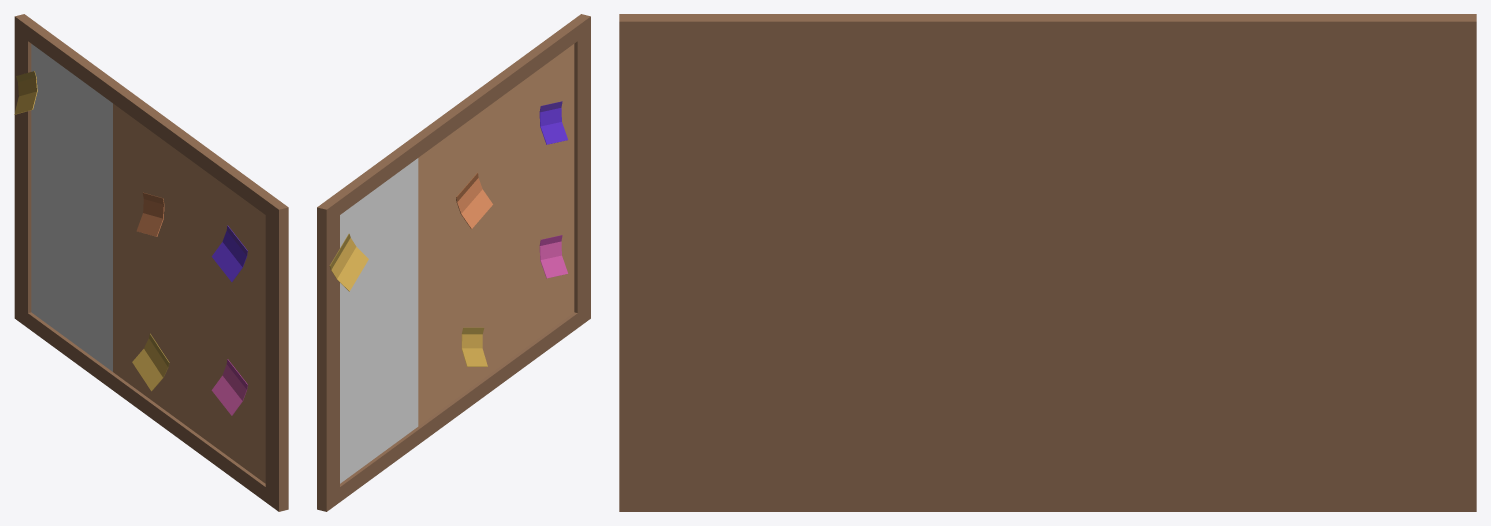
Rendered from pizarra.fbx.
3 renders of one model, left to right at view 1: azimuth 30°, elevation 25°; view 2: azimuth 150°, elevation 25°; view 3: azimuth 270°, elevation 25°, orthographic. The views are drawn at different scales.
Visible parts, largest first — view 1: Plane.001; view 2: Plane.001; view 3: Plane.001.
Boxes of the visible parts, x1,y1,x2,y2 form: Plane.001: (14, 14, 288, 511); Plane.001: (317, 14, 590, 511); Plane.001: (619, 14, 1476, 511).
Bounding box in the file's own units: 23.39 × 306 × 486.
